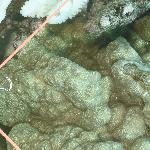alive: (1, 2, 145, 148)
